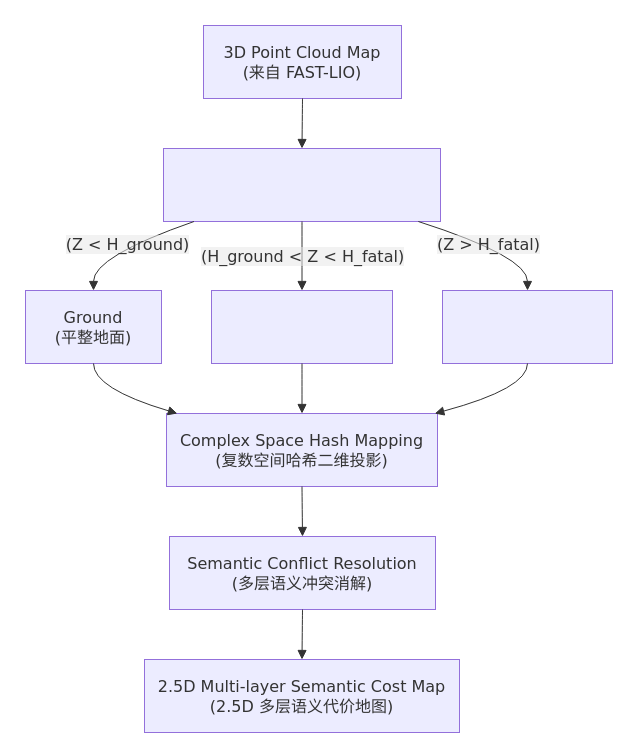
The diagram is 630 pixels wide and 750 high, and some of its shapes have lost their labels. The centre of each missing label's shape, as x and y in pixels:
"Crushable Weeds (低矮杂草)" goes at (301,327).
"Elevation-based Segmentation (高程阈值分割)" goes at (301,185).
"Fatal Obstacles (致命障碍)" goes at (527,327).
